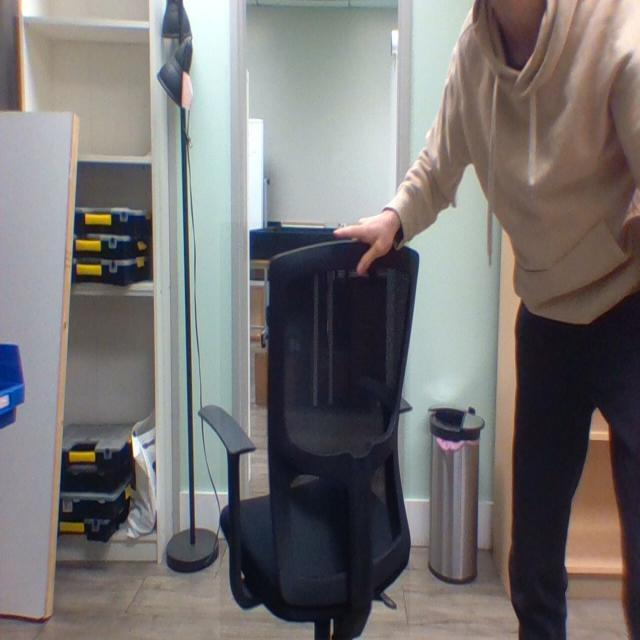black-chair: (220, 222, 411, 639)
